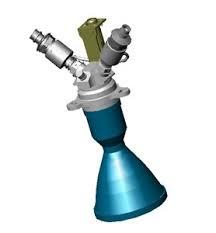thruster: (93, 123, 168, 224)
